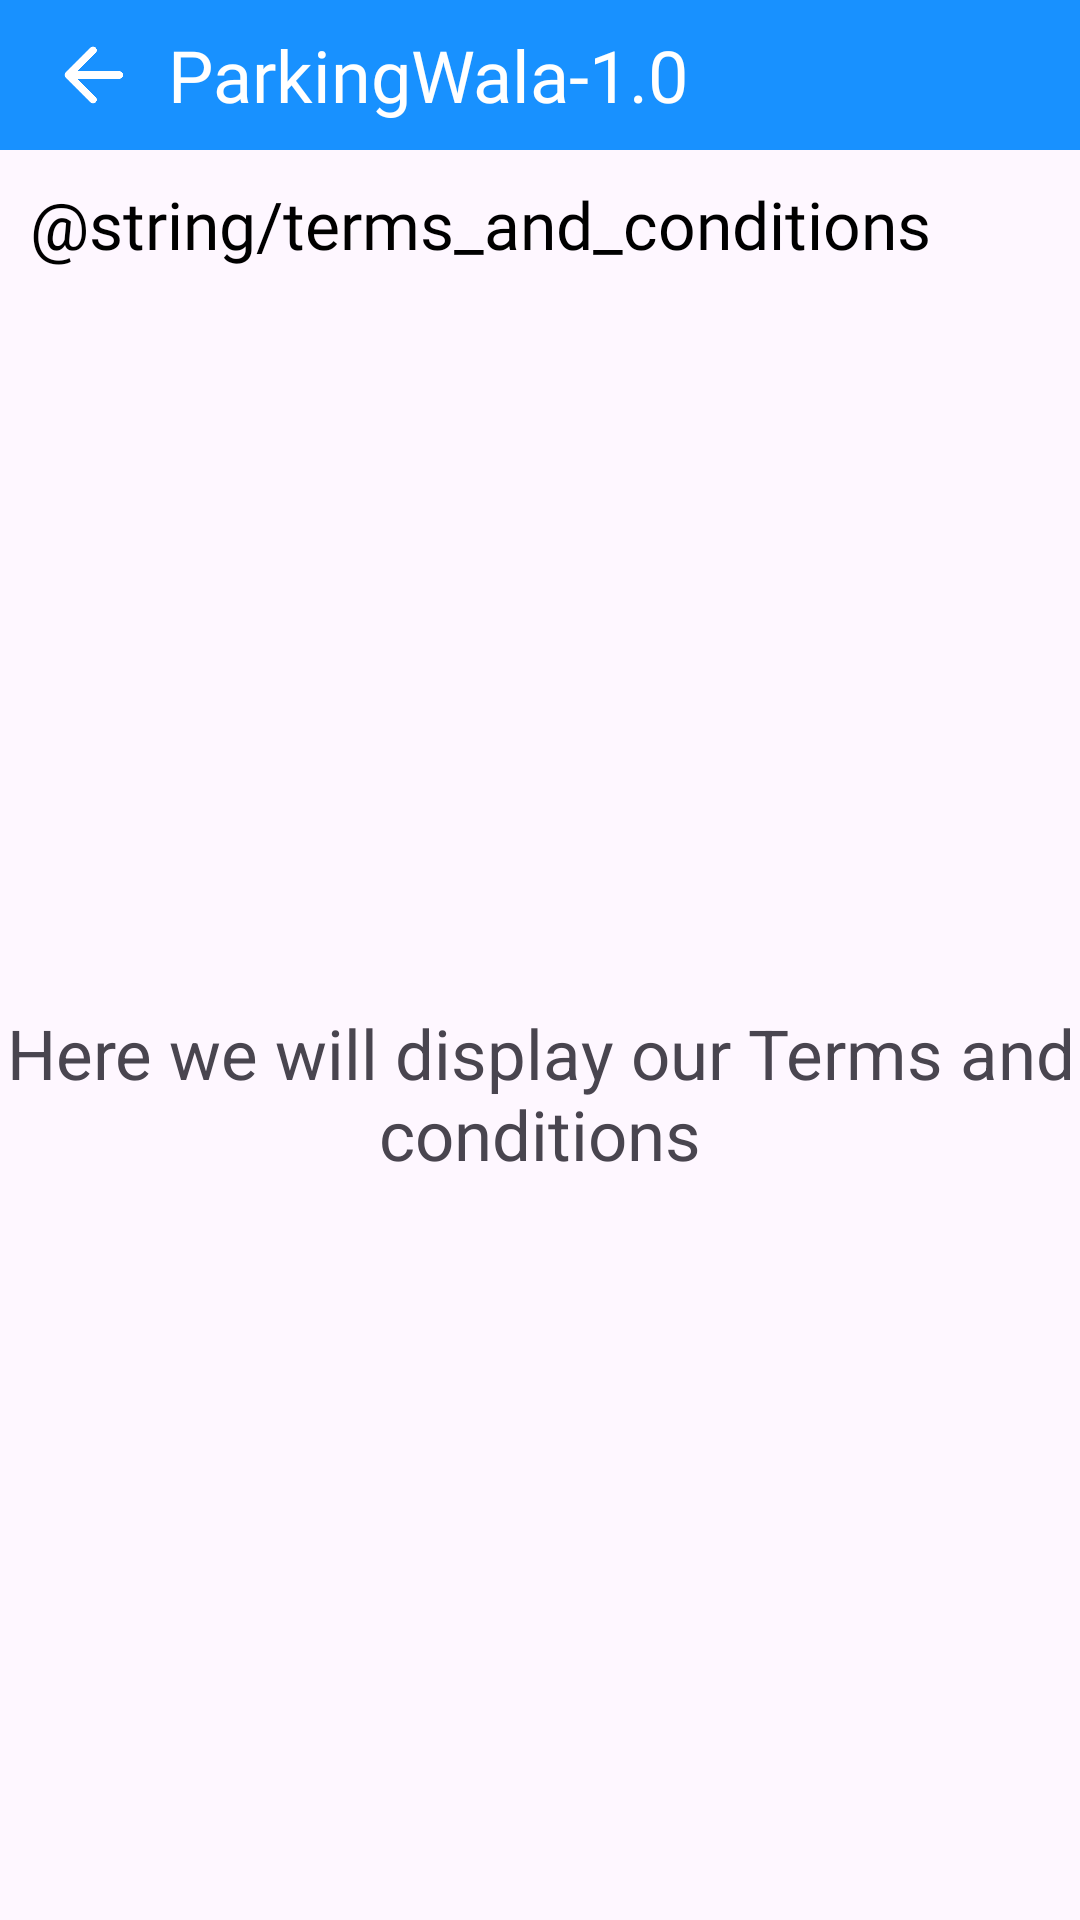

Locate icon controls on the screen. Image size 1080px×1920px, boxes as (x1, y1, x2, y2).
back arrow: (64, 46, 123, 104)
